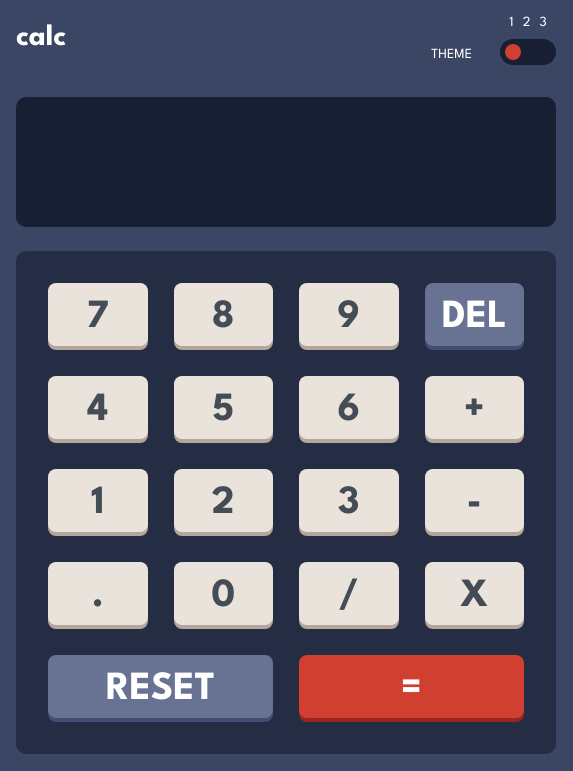
<Calculator> component › calculates -1 / 0 = error
Click the text with test id "button--" at [474, 500], box [424,469,524,532]
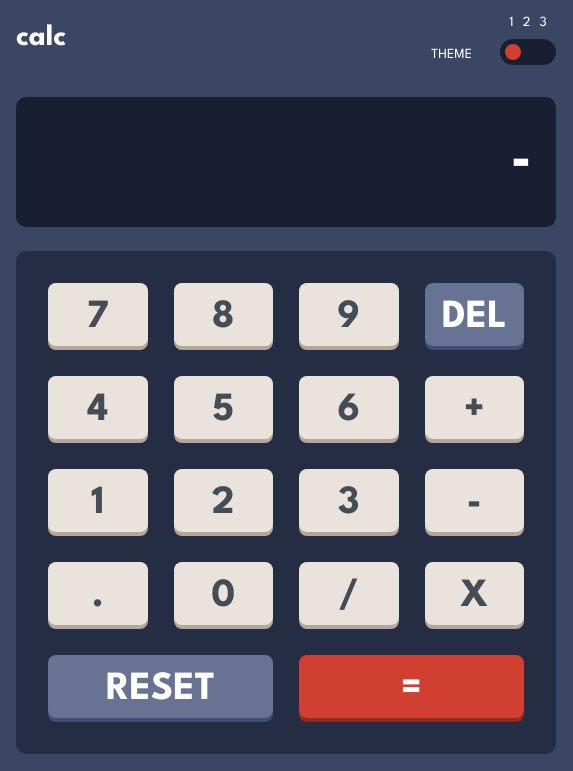
Click the text with test id "button-1" at [98, 500], box [48,469,148,532]
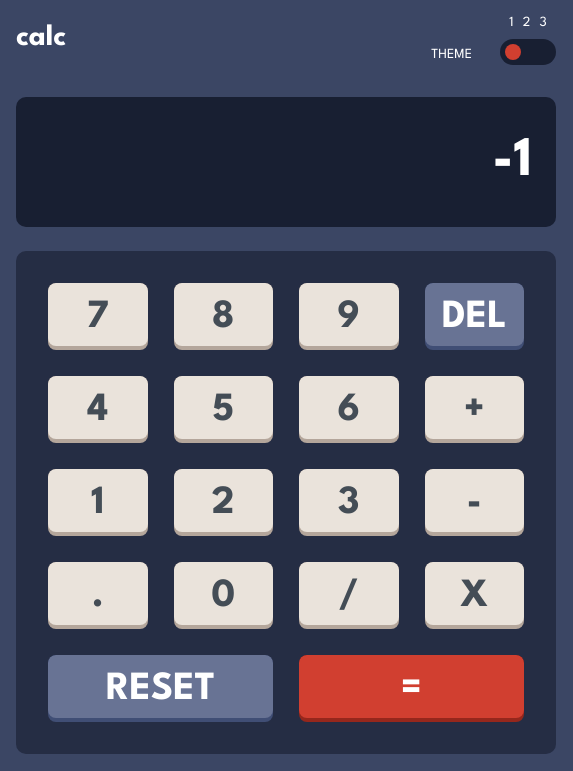
Click the text with test id "button-/" at [349, 593], box [299,562,398,625]
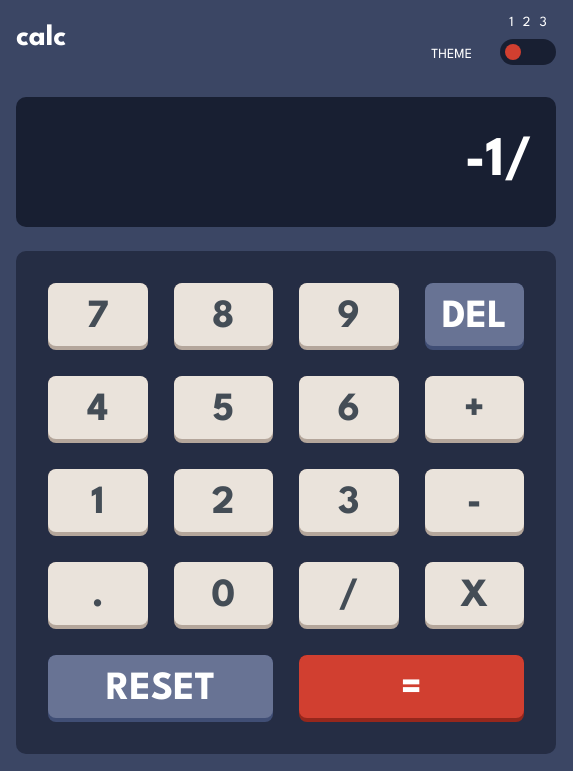
Click the text with test id "button-0" at [223, 593], box [174,562,273,625]
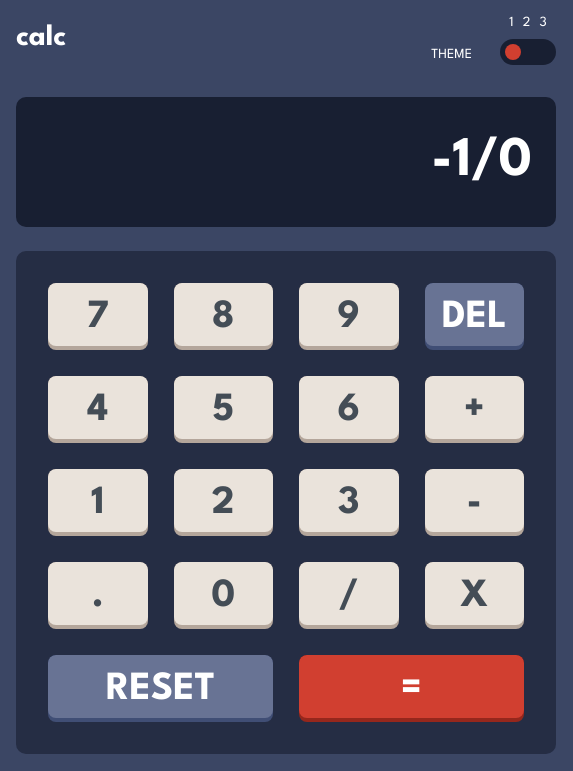
Click the button with test id "button-=" at [412, 686], box [299,655,524,718]
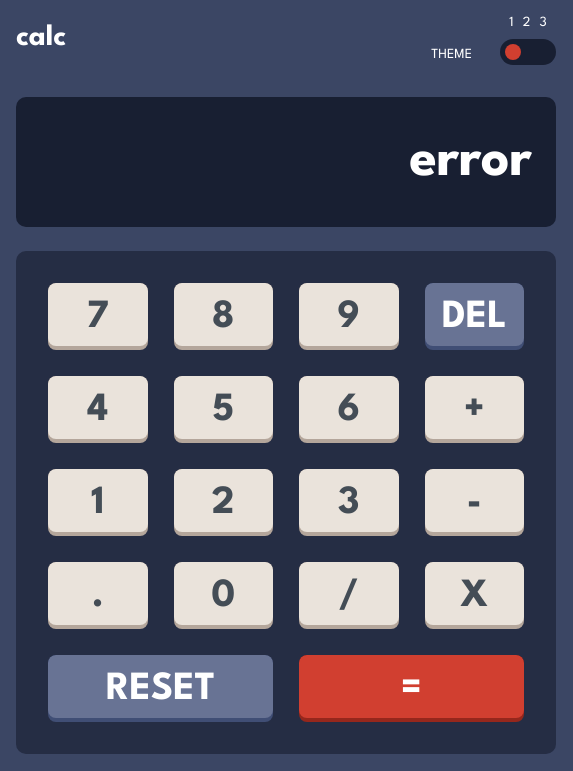
Now the text with test id "display-text" reads "error", box [409,136,532,187]
